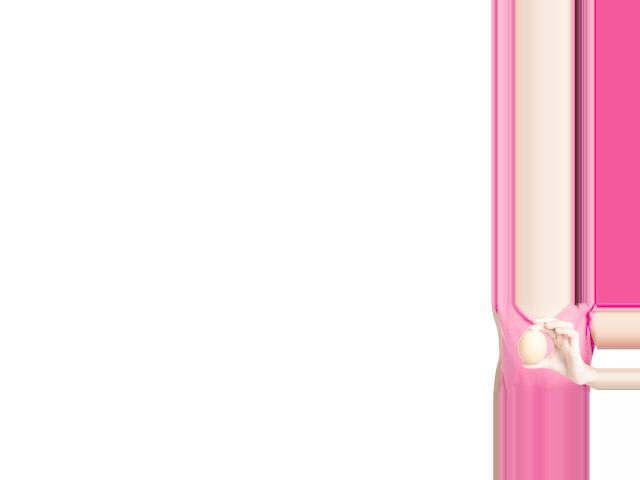egg: (518, 328, 547, 364)
